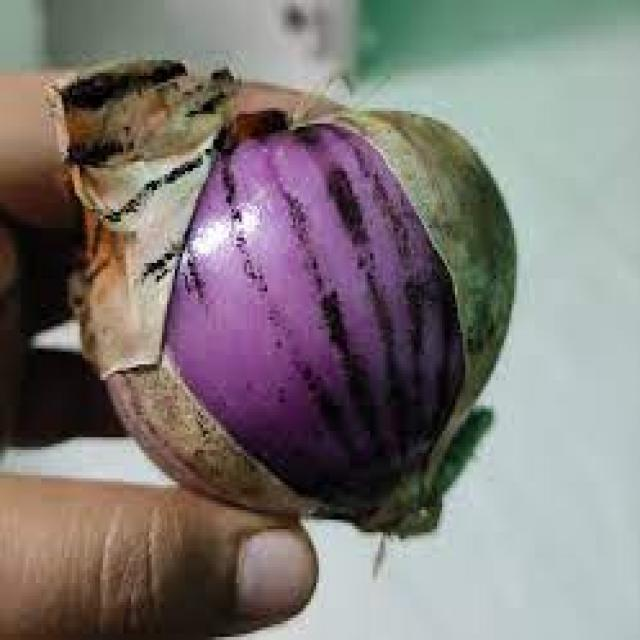Onion: (52, 54, 519, 581)
